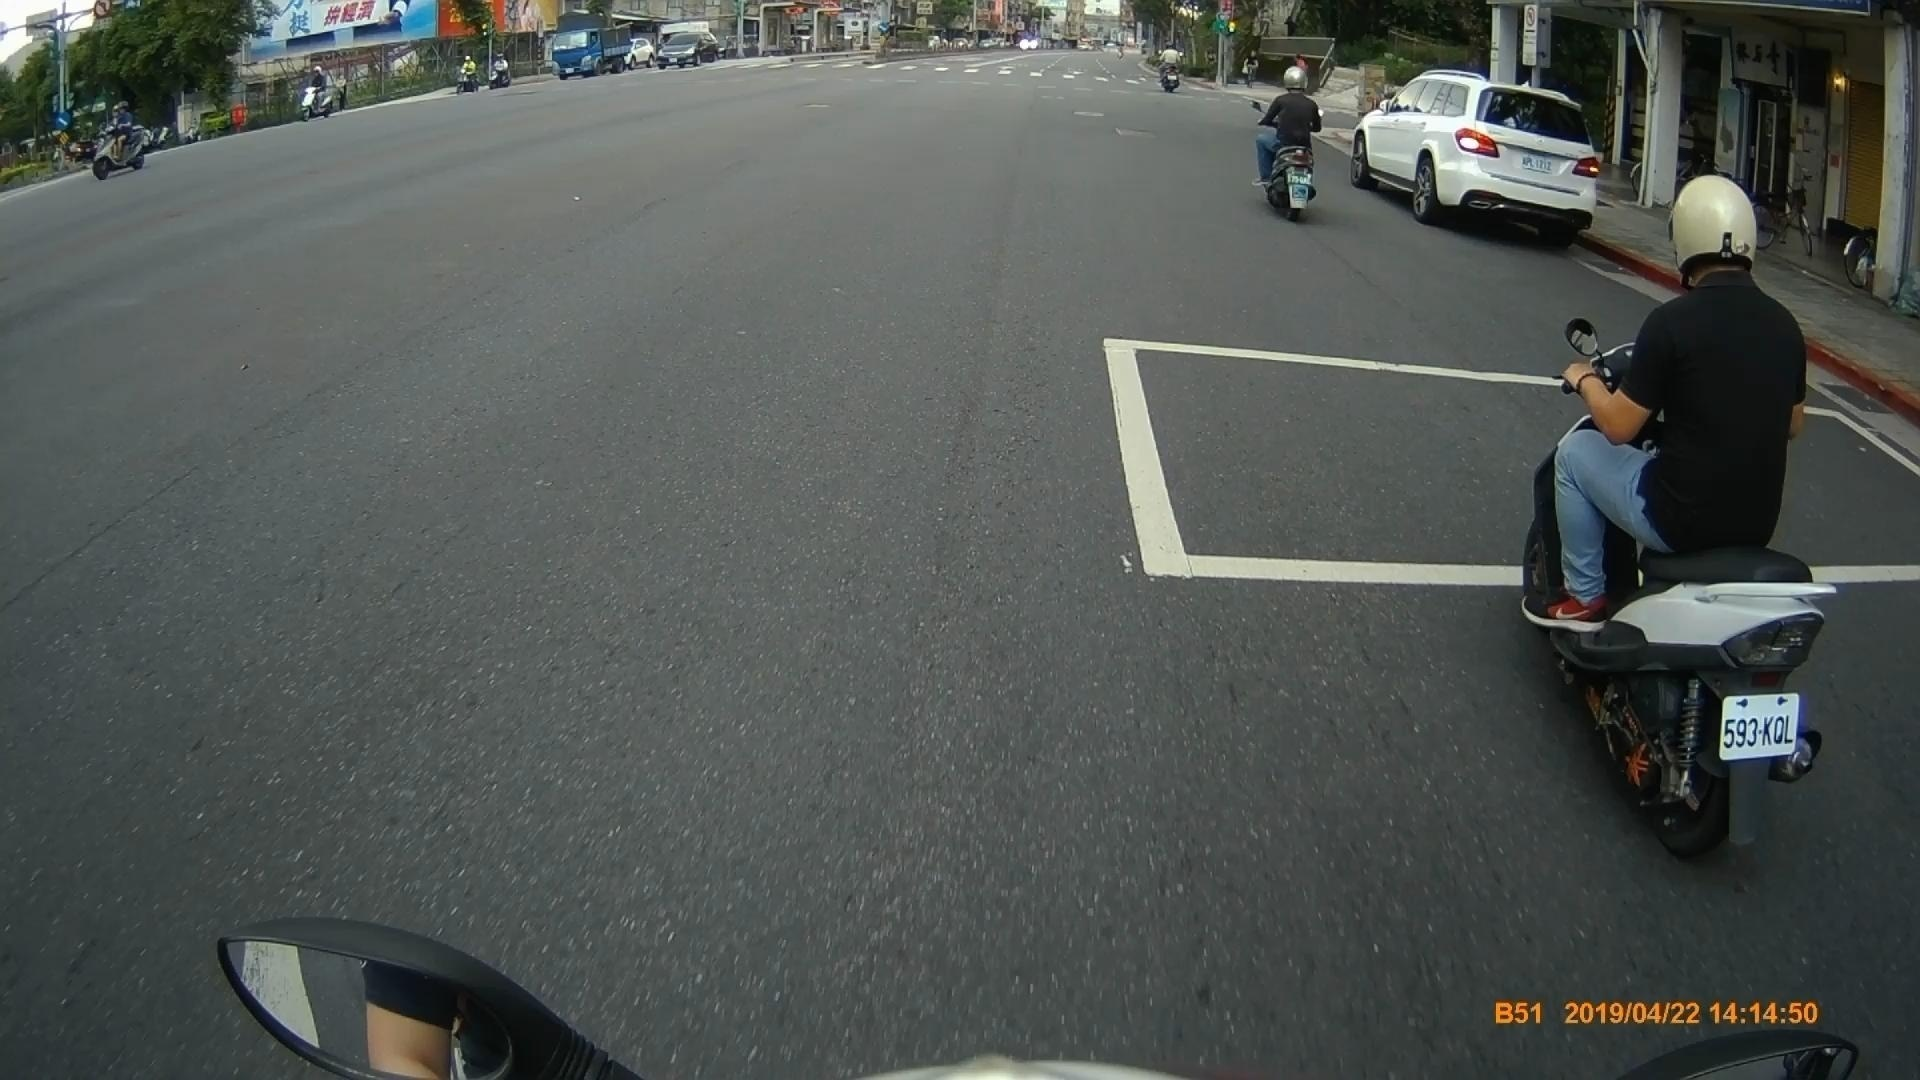License_plate: (1720, 696, 1802, 753)
